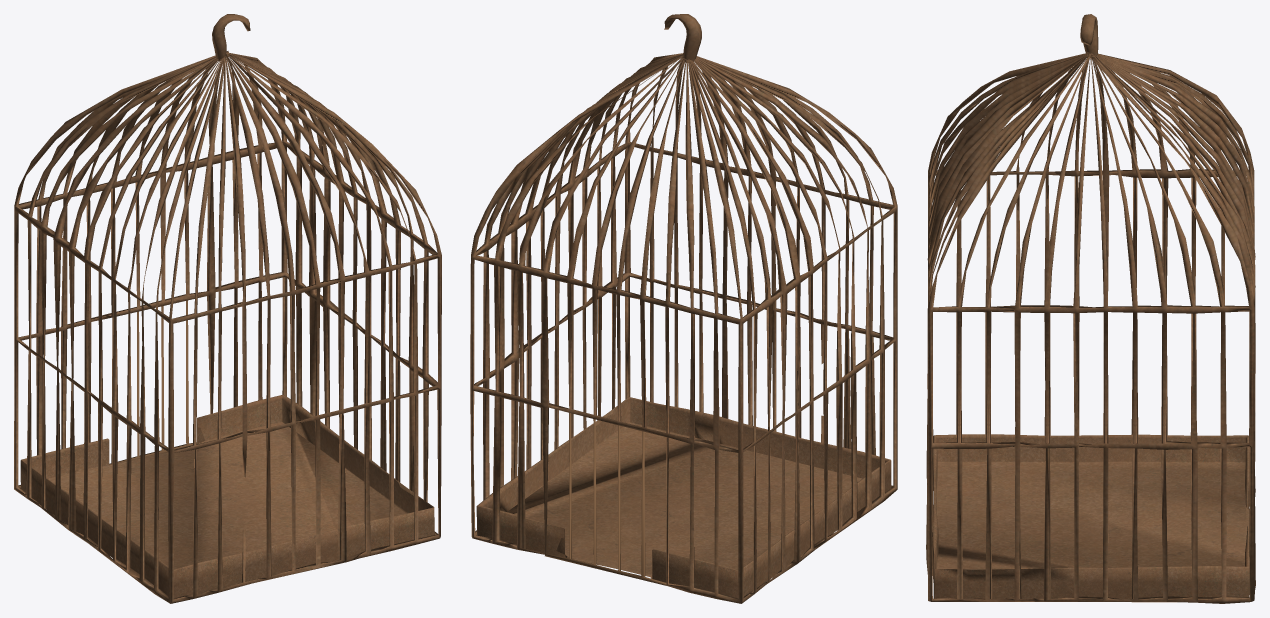
3 renders of one model, left to right at view 1: azimuth 30°, elevation 25°; view 2: azimuth 150°, elevation 25°; view 3: azimuth 270°, elevation 25°, orthographic. The views are drawn at different scales.
Visible parts, largest first — view 1: BirdCage_2; view 2: BirdCage_2; view 3: BirdCage_2.
Part boxes in pixels (<box>): BirdCage_2: <box>14,14,441,603</box>; BirdCage_2: <box>470,14,897,603</box>; BirdCage_2: <box>926,14,1255,603</box>.
Size of the model in its own units: 0.1534 by 0.2671 by 0.1533.
1 material, 1 textured.
